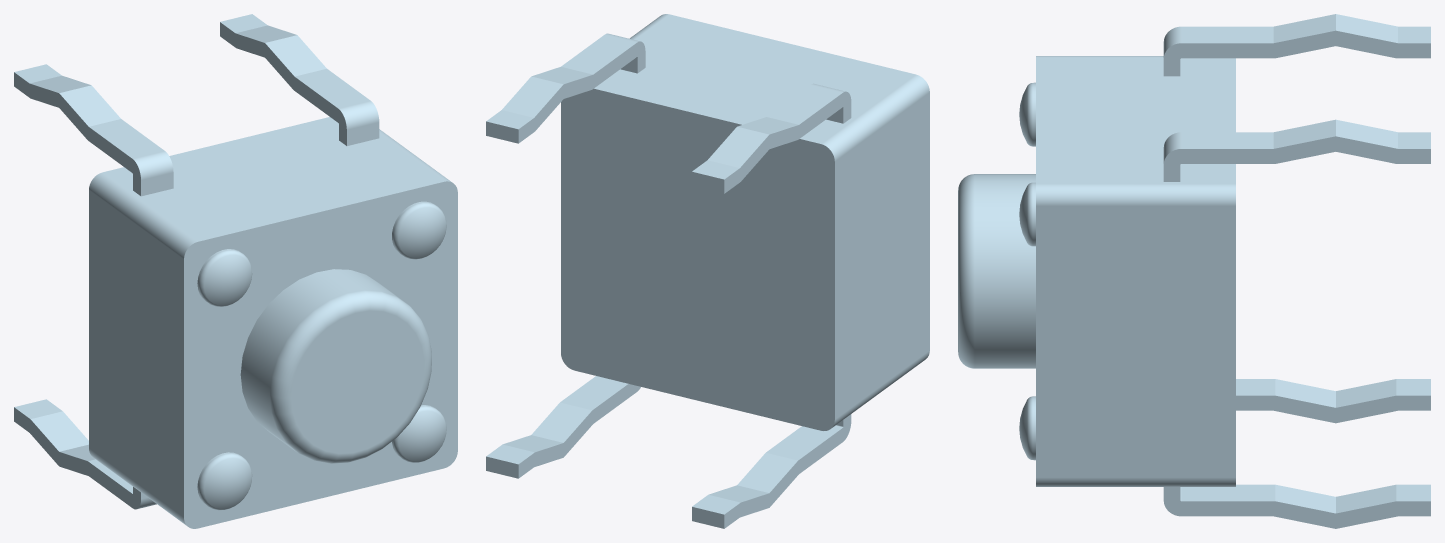
3 views of the same model, side by side, from view 1: azimuth 30°, elevation 25°; view 2: azimuth 150°, elevation 25°; view 3: azimuth 270°, elevation 25° (orthographic). The views are drawn at different scales.
Parts seen in each view (by area): view 1: mesh90344, mesh90351, mesh90395, mesh90341, mesh90342, mesh90343, mesh90350, mesh90422, mesh90406, mesh90376, mesh90360, mesh90357 (+20 smaller); view 2: mesh90346, mesh90351, mesh90395, mesh90350, mesh90406, mesh90422, mesh90376, mesh90390, mesh90424, mesh90399, mesh90401, mesh90420 (+13 smaller); view 3: mesh90348, mesh90395, mesh90343, mesh90421, mesh90391, mesh90407, mesh90349, mesh90342, mesh90375, mesh90347, mesh90424, mesh90399 (+14 smaller).
Boxes of the visible parts, bbox=[...] form: mesh90344: bbox=[184, 181, 457, 528]; mesh90351: bbox=[89, 190, 183, 517]; mesh90395: bbox=[103, 117, 443, 241]; mesh90341: bbox=[291, 311, 424, 453]; mesh90342: bbox=[269, 290, 431, 463]; mesh90343: bbox=[240, 269, 405, 451]; mesh90350: bbox=[89, 172, 197, 259]; mesh90422: bbox=[14, 72, 140, 195]; mesh90406: bbox=[220, 22, 346, 145]; mesh90376: bbox=[14, 407, 140, 509]; mesh90360: bbox=[204, 458, 251, 508]; mesh90357: bbox=[204, 255, 251, 305]; mesh90346: bbox=[561, 88, 834, 430]; mesh90351: bbox=[835, 92, 929, 419]; mesh90395: bbox=[594, 14, 915, 143]; mesh90350: bbox=[821, 74, 929, 161]; mesh90406: bbox=[518, 41, 645, 143]; mesh90422: bbox=[724, 91, 851, 193]; mesh90376: bbox=[724, 414, 851, 528]; mesh90390: bbox=[518, 384, 640, 478]; mesh90424: bbox=[767, 85, 842, 124]; mesh90399: bbox=[561, 34, 636, 74]; mesh90401: bbox=[502, 76, 563, 117]; mesh90420: bbox=[708, 126, 769, 167]; mesh90348: bbox=[1036, 206, 1235, 477]; mesh90395: bbox=[1036, 57, 1235, 183]; mesh90343: bbox=[974, 174, 1035, 368]; mesh90421: bbox=[1163, 30, 1430, 76]; mesh90391: bbox=[1163, 487, 1430, 528]; mesh90407: bbox=[1163, 136, 1430, 181]; mesh90349: bbox=[1036, 184, 1235, 205]; mesh90342: bbox=[958, 174, 974, 368]; mesh90375: bbox=[1236, 395, 1430, 423]; mesh90347: bbox=[1036, 477, 1235, 486]; mesh90424: bbox=[1181, 26, 1273, 43]; mesh90399: bbox=[1181, 132, 1273, 148].
Size of the model in its own units: 0.00599 by 0.0078 by 0.00851.
